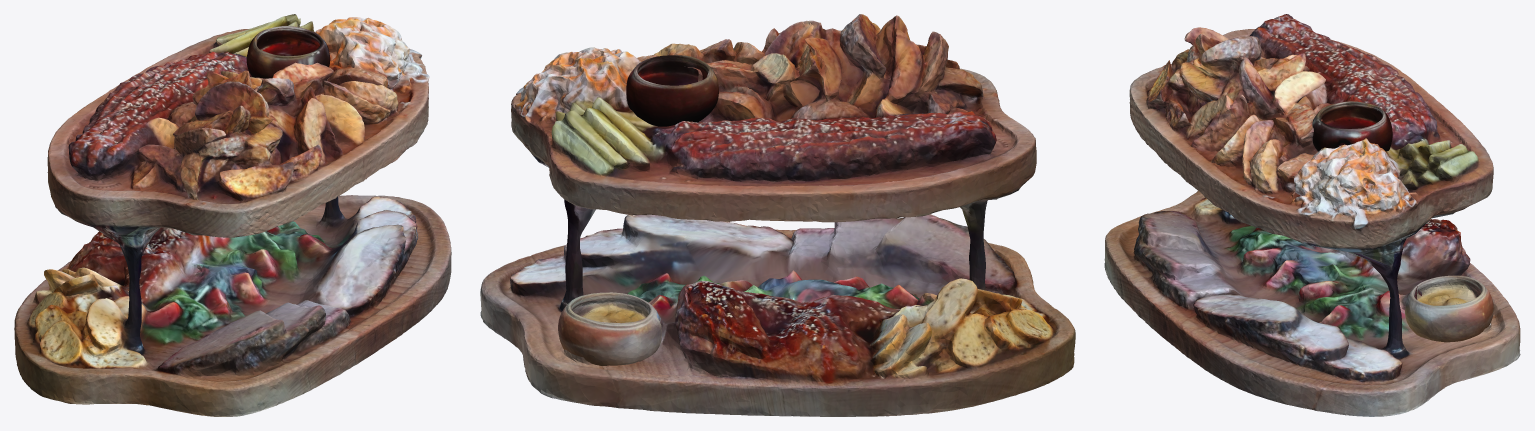
File: set.meet.glb
3 views of the same model, side by side, from view 1: azimuth 30°, elevation 25°; view 2: azimuth 150°, elevation 25°; view 3: azimuth 270°, elevation 25° (orthographic). The views are drawn at different scales.
Parts seen in each view (by area): view 1: object 1, world; view 2: object 1, world (×2); view 3: object 1, world (×2).
Boxes of the visible parts, x1,y1,x2,y2 form: object 1: (14,14,451,416); world: (246,26,330,78); object 1: (480,14,1075,416); world (×2): (558,55,718,365); object 1: (1104,14,1520,416); world (×2): (1312,101,1493,342).
Size of the model in its own units: 0.4349 by 0.2399 by 0.3534.
3 materials, 3 textured.
